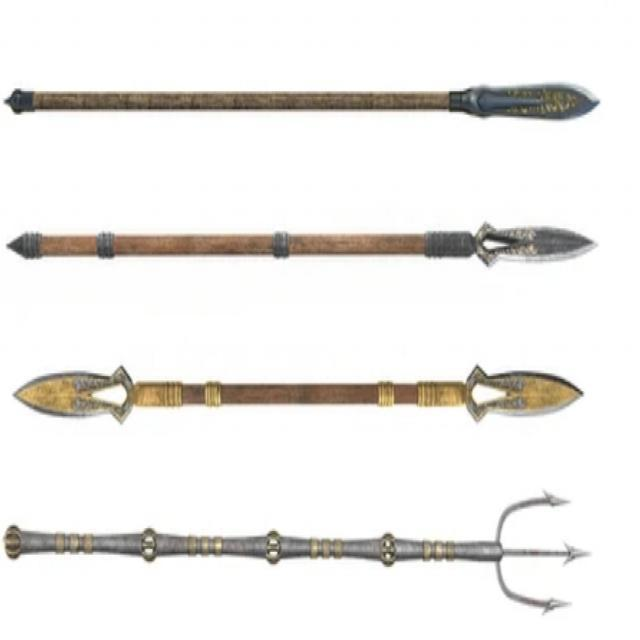spear: (4, 472, 594, 628), (7, 353, 598, 441), (2, 66, 604, 142), (2, 218, 598, 278)
